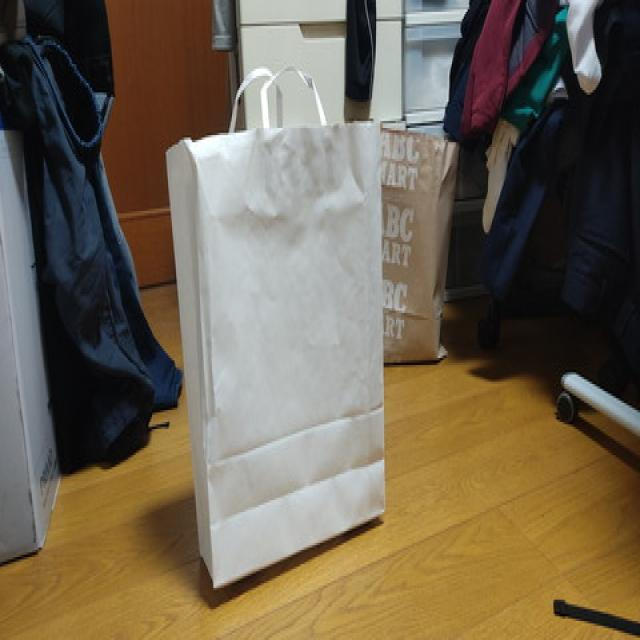paper bag: (163, 63, 387, 596), (377, 128, 461, 365)
